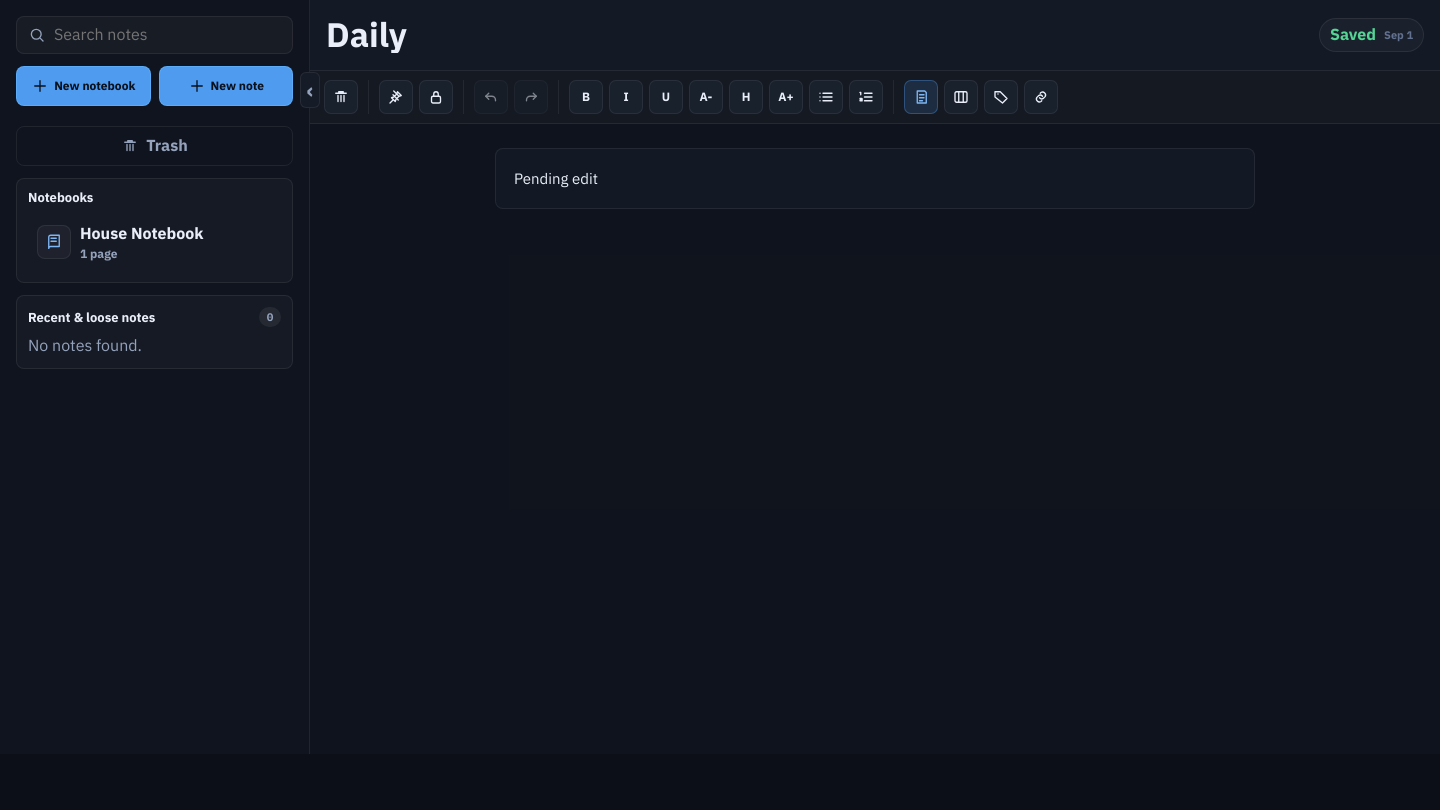
Test: ProfileNotesPage › cancels pending autosave and returns to the deleted note's notebook
Clear the field named "Note body" at (875, 179), box [495,148,1255,209]
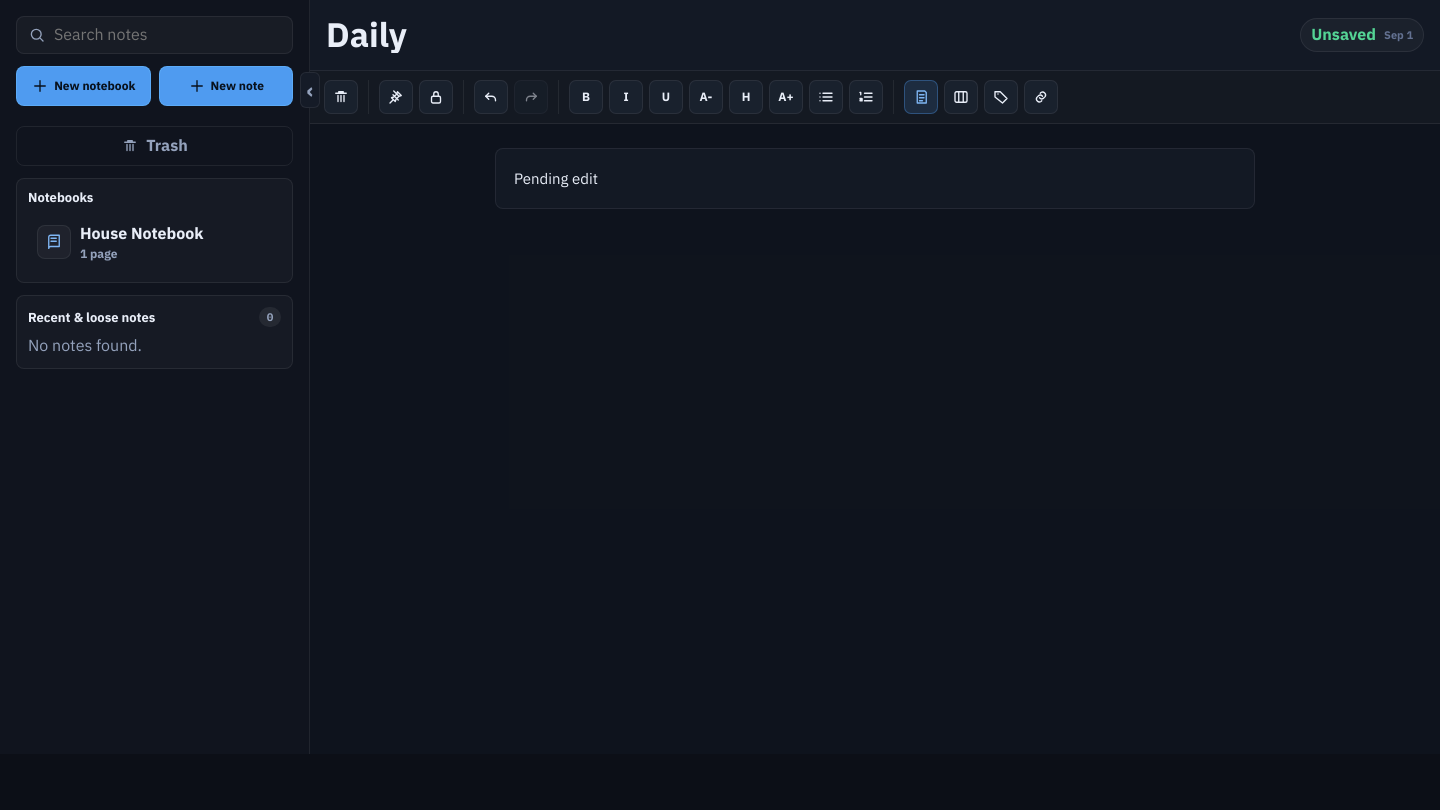
Click the button named "Delete note" at (341, 97), box [324,80,358,114]
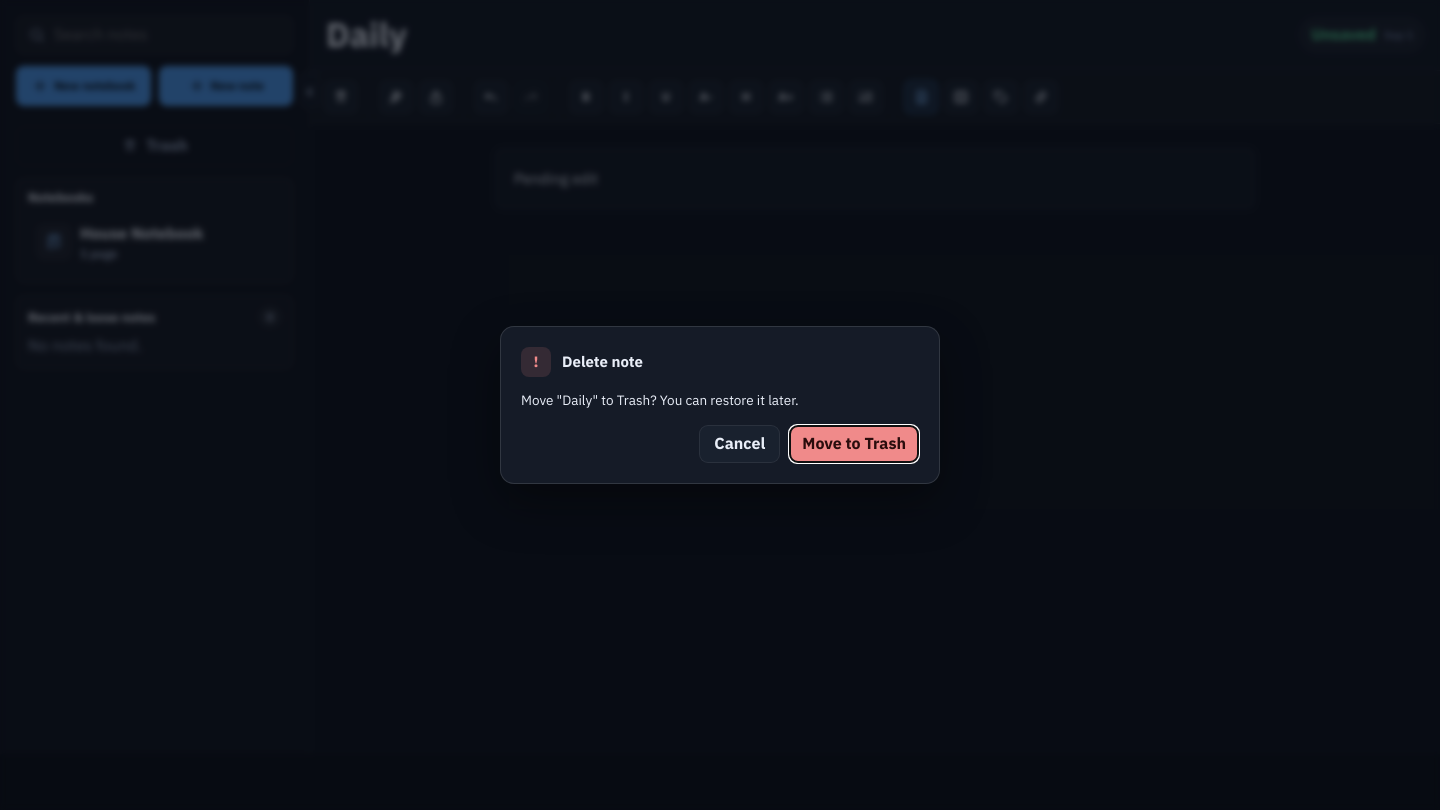
Click the button "Move to Trash" at (854, 444), box [789,425,919,463]
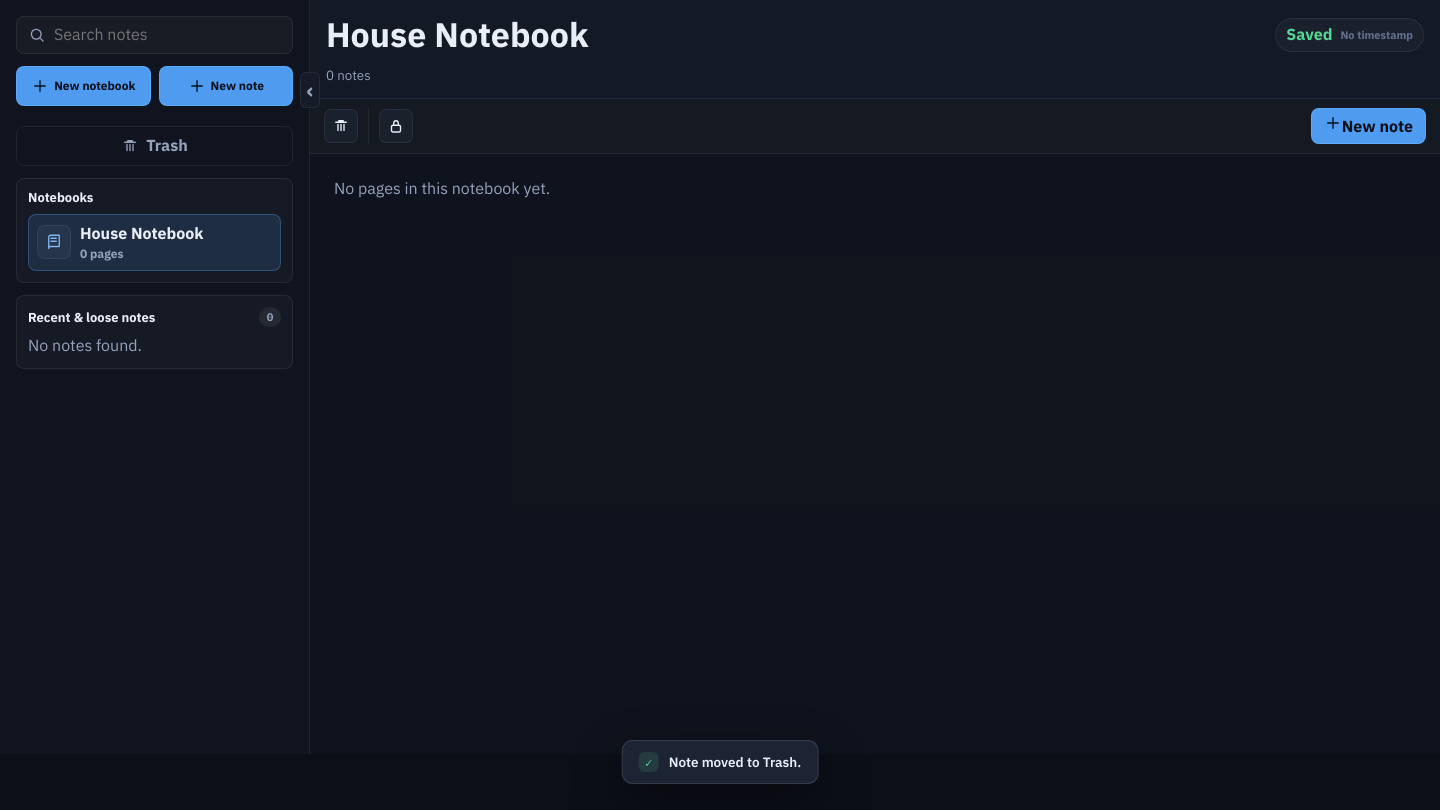
expect the field named "Note title" holds "House Notebook": met, box [326,14,1265,56]
expect the text "Daily" is gone: met
